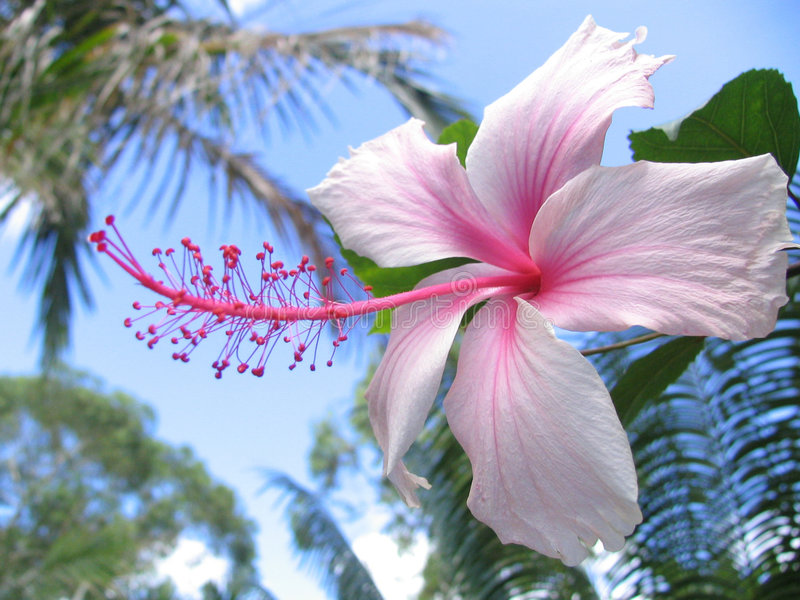Hibiscus: (80, 31, 786, 580)
